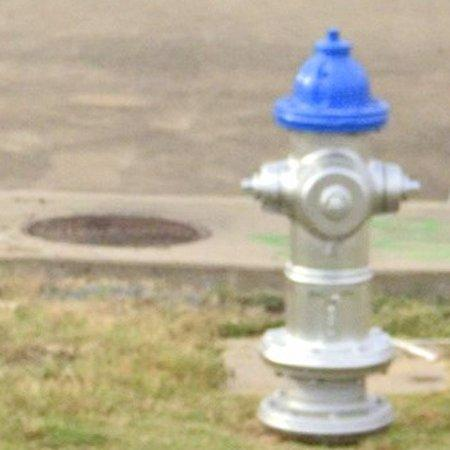a fire hydrant: (242, 29, 421, 440)
